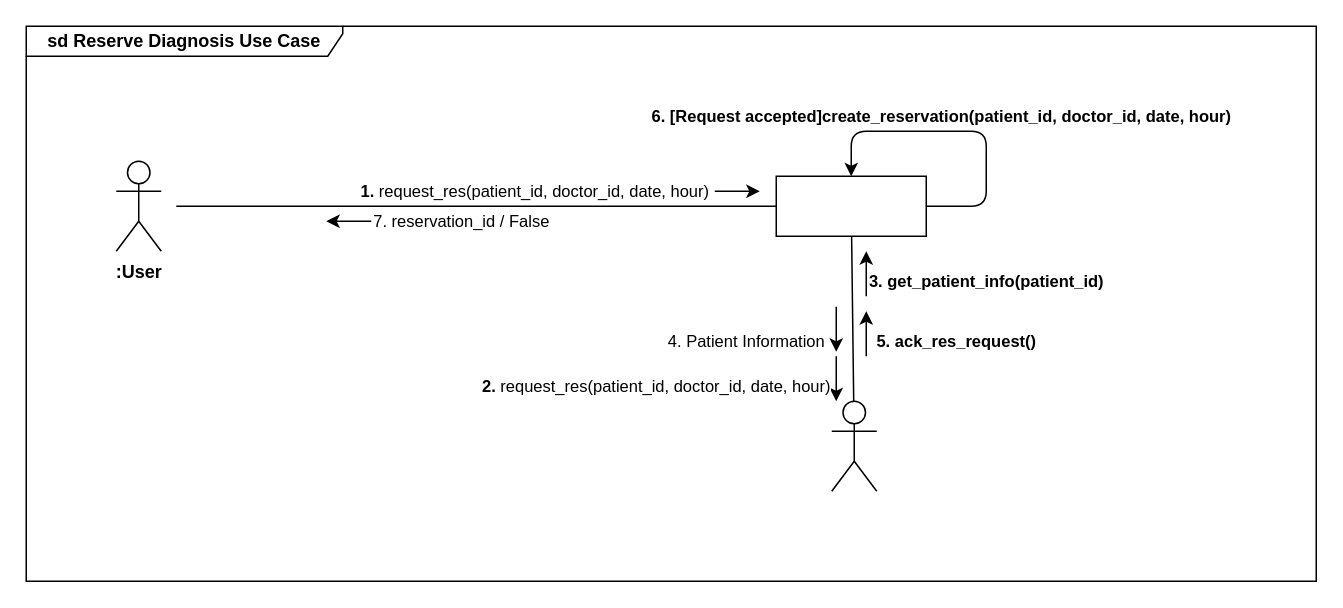
The diagram is 1343 pixels wide and 608 high, and some of its shapes have lost their labels. The shapes that lost their labels are listed below. From the top down, each one's centre as x and y in pixels, then its label:
At point (850, 205): "FirestoreDB :Reservation".
At point (853, 445): ":Doctor".
